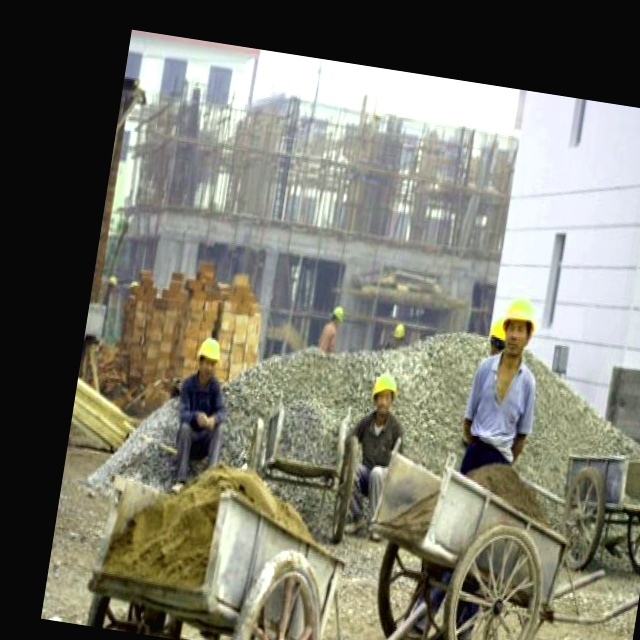Con_Casco: (499, 295, 540, 354), (368, 371, 400, 416), (195, 336, 224, 379)
